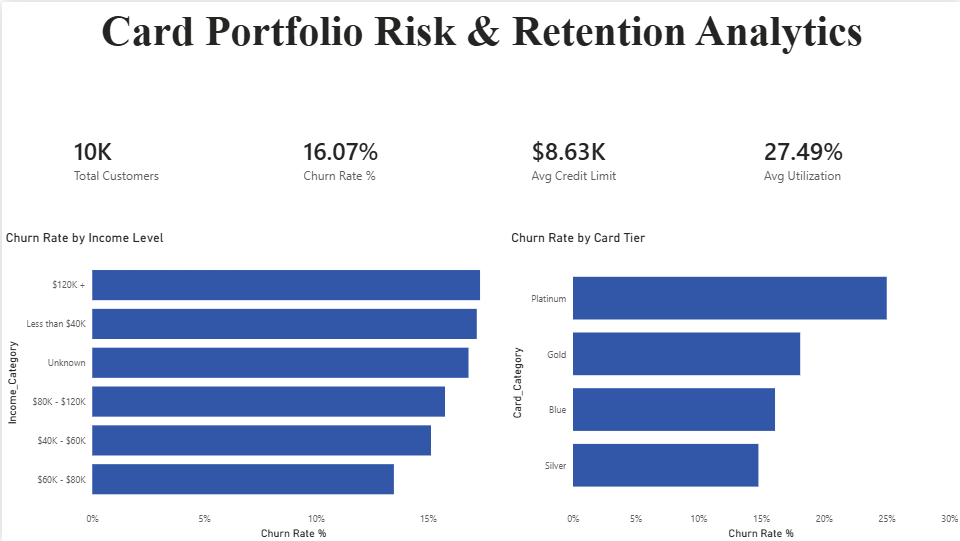

What the dashboard file says about the page in this screenshot:
{"tool":"powerbi","page":{"name":"Overview","canvas":[1280,720],"ordinal":0},"visuals":[{"type":"cardVisual","fields":{"Data":["BankChurners_clean.Total Customers"]},"box":[64,126,180,164],"z":0},{"type":"cardVisual","fields":{"Data":["BankChurners_clean.Churn Rate %"]},"box":[370,126,180,164],"z":1000},{"type":"cardVisual","fields":{"Data":["BankChurners_clean.Avg Credit Limit"]},"box":[674,126,180,164],"z":2000},{"type":"cardVisual","fields":{"Data":["BankChurners_clean.Avg Utilization"]},"box":[984,126,180,164],"z":3000},{"type":"clusteredBarChart","title":"Churn Rate by Income Level","fields":{"Category":["BankChurners_clean.Income_Category"],"Y":["BankChurners_clean.Churn Rate %"]},"box":[0,304,674,416],"z":4000},{"type":"clusteredBarChart","title":"Churn Rate by Card Tier","fields":{"Category":["BankChurners_clean.Card_Category"],"Y":["BankChurners_clean.Churn Rate %"]},"box":[674,304,606,416],"z":5000},{"type":"textbox","box":[0,0,1280,126],"z":5001}]}

Visuals, with their boxes in screenshot pixels (x1, y1, x2, y2), scaled from the page's 1280x720 canvas onto the 960x541 screenshot:
cardVisual - BankChurners_clean.Total Customers: 48/95/183/218
cardVisual - BankChurners_clean.Churn Rate %: 278/95/412/218
cardVisual - BankChurners_clean.Avg Credit Limit: 506/95/640/218
cardVisual - BankChurners_clean.Avg Utilization: 738/95/873/218
"Churn Rate by Income Level" clusteredBarChart: 0/228/506/540
"Churn Rate by Card Tier" clusteredBarChart: 506/228/959/540
textbox: 0/0/959/95
